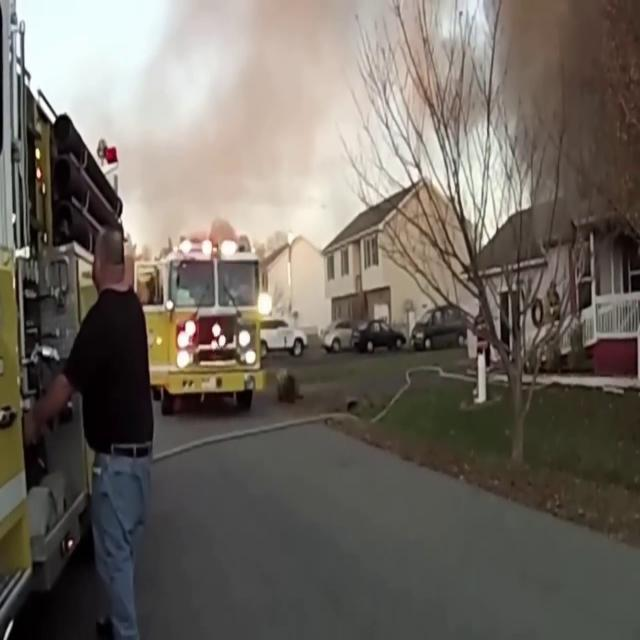Smoke: (126, 1, 342, 250), (509, 1, 640, 231)
